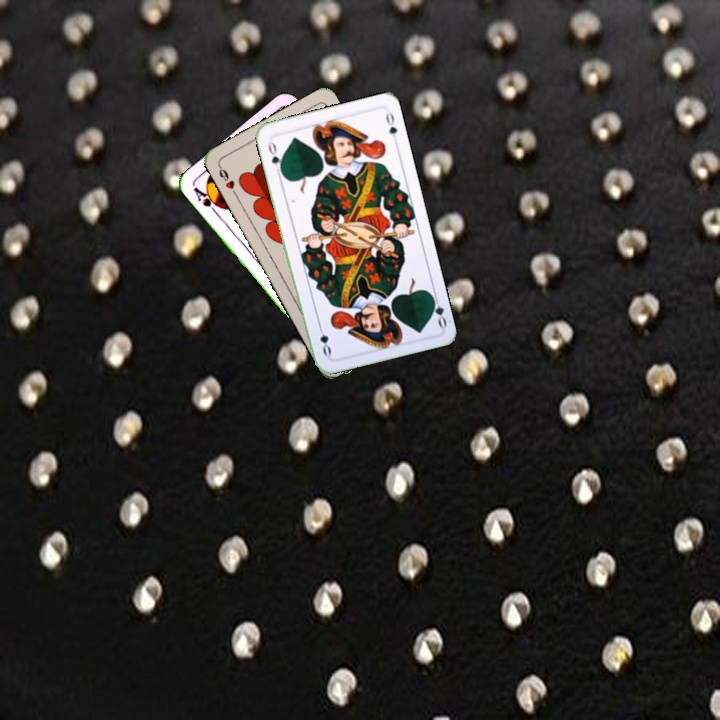GO: (426, 289, 449, 330), (264, 136, 285, 176)
H9: (214, 161, 239, 199)
SA: (189, 183, 225, 217)
